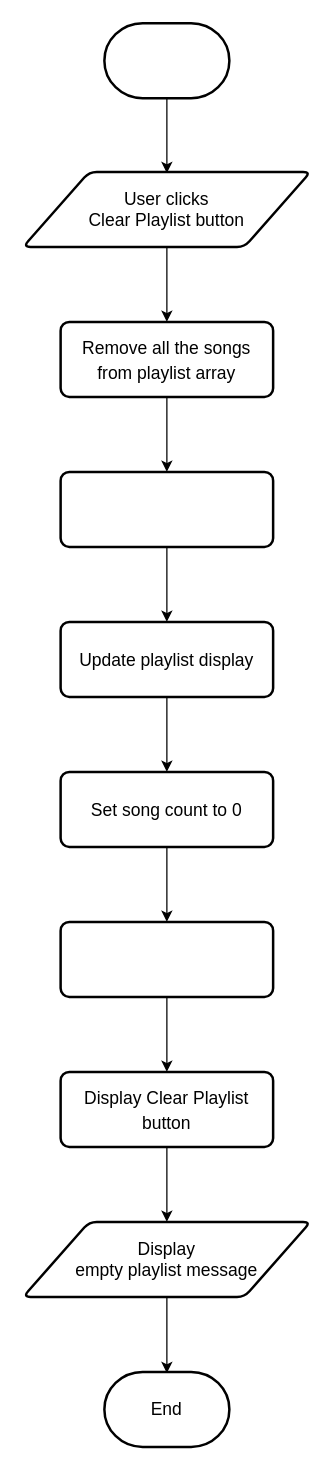
The diagram is 333 pixels wide and 1469 high, and some of its shapes have lost their labels. Here are the shapes that lost their labels. From the top down, the centre of each, then its label:
At point (166, 60): "Start".
At point (166, 509): "Save empty playlist to localStorage".
At point (166, 959): "Set total duration to 0:00".
